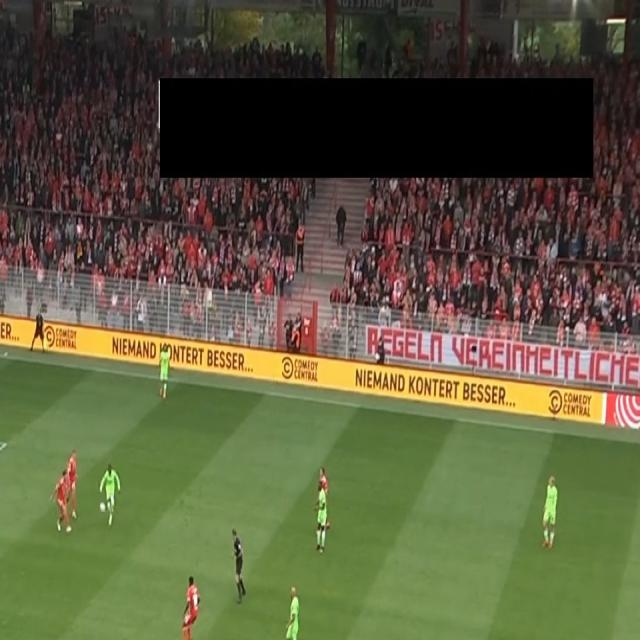ball: (98, 500, 106, 515)
